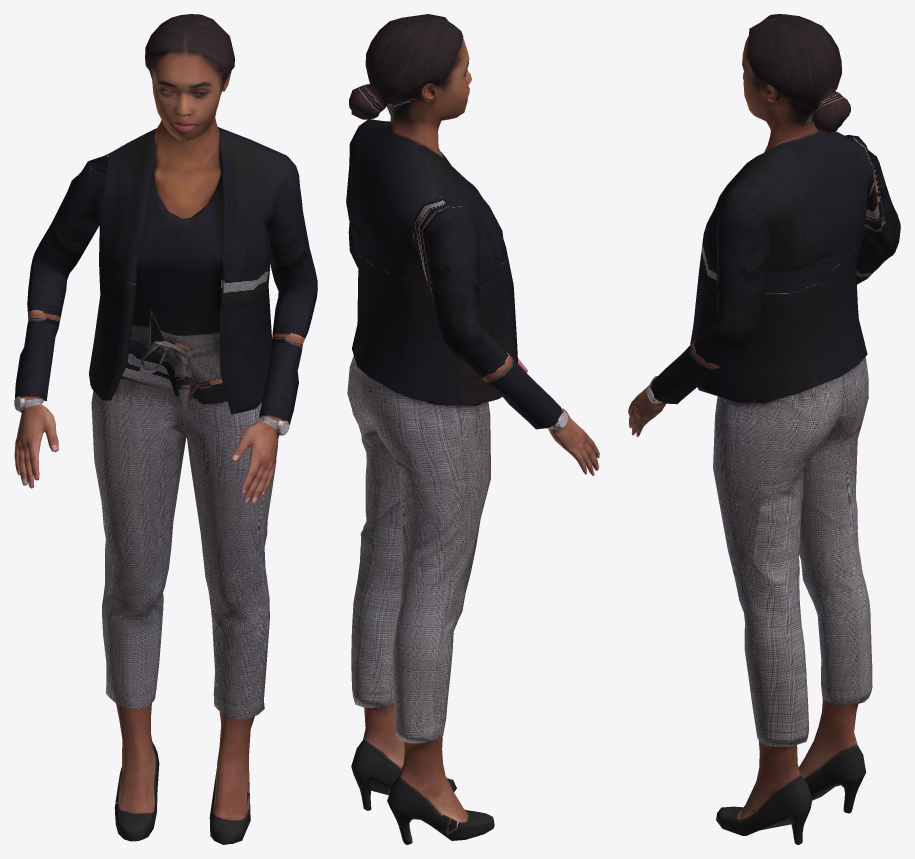
Rendered from woman1.fbx.
3 renders of one model, left to right at view 1: azimuth 30°, elevation 25°; view 2: azimuth 150°, elevation 25°; view 3: azimuth 270°, elevation 25°, orthographic.
Visible parts, largest first — view 1: women_tech; view 2: women_tech; view 3: women_tech.
Part boxes in pixels (x1=…): women_tech: x1=14, y1=14, x2=317, y2=844; women_tech: x1=346, y1=14, x2=599, y2=844; women_tech: x1=628, y1=14, x2=900, y2=844.
Size of the model in its own units: 60.48 by 173 by 53.4.
Materials: 1 (1 with a texture image).
